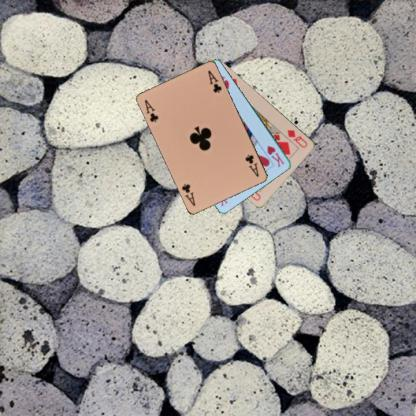Ac: (142, 97, 160, 124), (243, 152, 260, 178)
Kh: (264, 143, 286, 168)
Qd: (285, 127, 309, 149)
